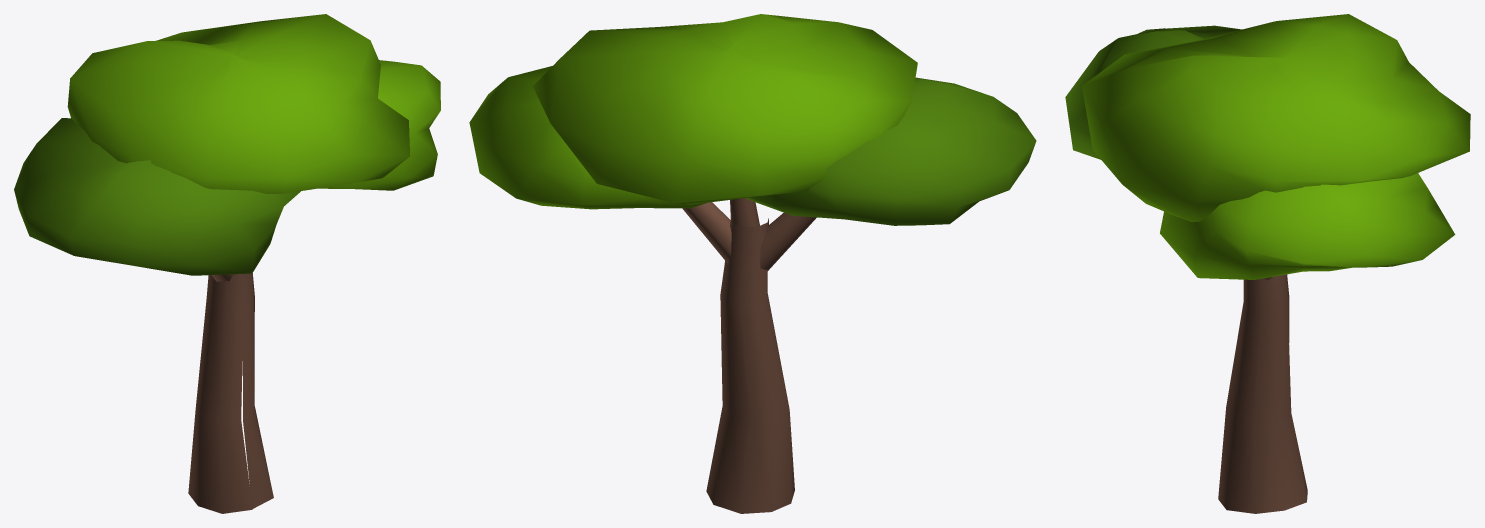
File: tree_acacia.gltf
3 renders of one model, left to right at view 1: azimuth 30°, elevation 25°; view 2: azimuth 150°, elevation 25°; view 3: azimuth 270°, elevation 25°, orthographic. The views are drawn at different scales.
Visible parts, largest first — view 1: Pad_2, Pad_0, Trunk, Pad_1; view 2: Pad_2, Pad_0, Trunk, Pad_1, Fork_0, Fork_1, Fork_2; view 3: Pad_2, Pad_1, Trunk, Pad_0.
Boxes of the visible parts, x1,y1,x2,y2 form: Pad_2: (67,14,409,193); Pad_0: (14,118,300,275); Trunk: (188,273,273,513); Pad_1: (319,60,440,190); Pad_2: (533,14,917,204); Pad_0: (745,77,1036,225); Trunk: (706,218,794,513); Pad_1: (469,66,707,209); Fork_0: (760,213,816,270); Fork_1: (682,202,731,263); Fork_2: (730,198,759,229); Pad_2: (1082,14,1470,222); Pad_1: (1160,173,1455,279); Trunk: (1218,274,1307,513); Pad_0: (1065,25,1241,159).
Size of the model in its own units: 3.36 by 3.06 by 2.51.
